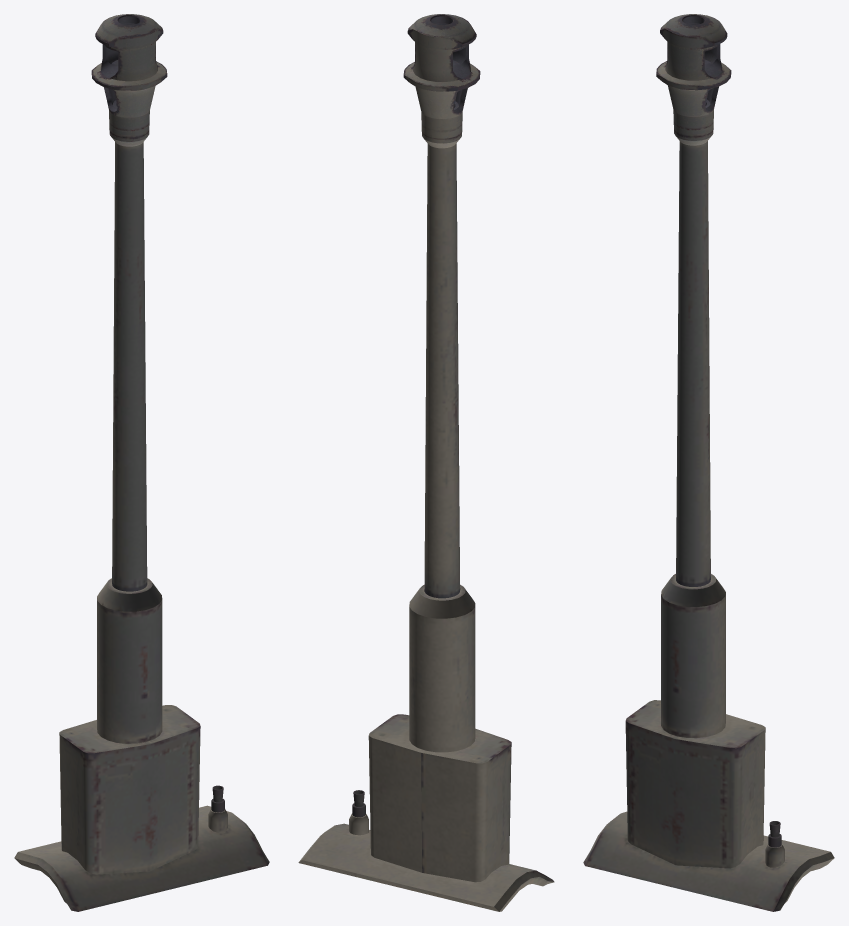
File: Gun_01.glb
3 views of the same model, side by side, from view 1: azimuth 30°, elevation 25°; view 2: azimuth 150°, elevation 25°; view 3: azimuth 330°, elevation 25° (orthographic). The views are drawn at different scales.
Visible parts, largest first — view 1: set_0_group_0; view 2: set_0_group_0; view 3: set_0_group_0.
Boxes of the visible parts, x1,y1,x2,y2 form: set_0_group_0: (14, 14, 269, 911); set_0_group_0: (298, 14, 554, 911); set_0_group_0: (583, 14, 834, 911).
Size of the model in its own units: 0.7848 by 3.2 by 0.4041.
Materials: 1 (1 with a texture image).
